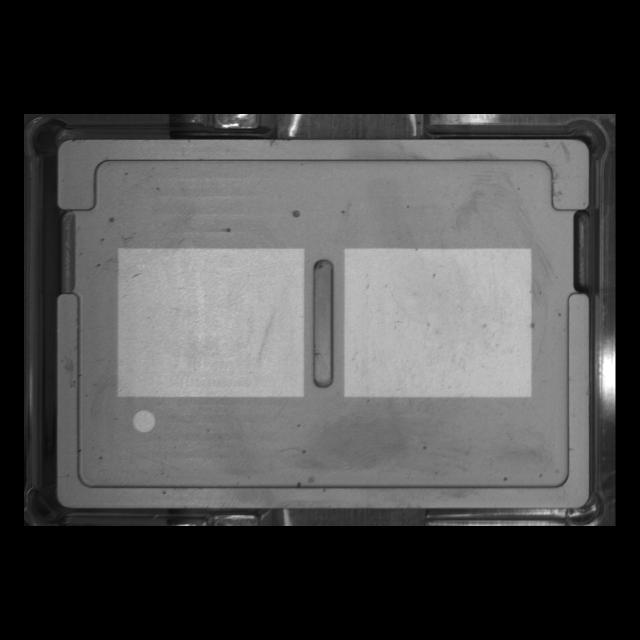door: (44, 126, 600, 222)
point: (127, 406, 160, 438)
